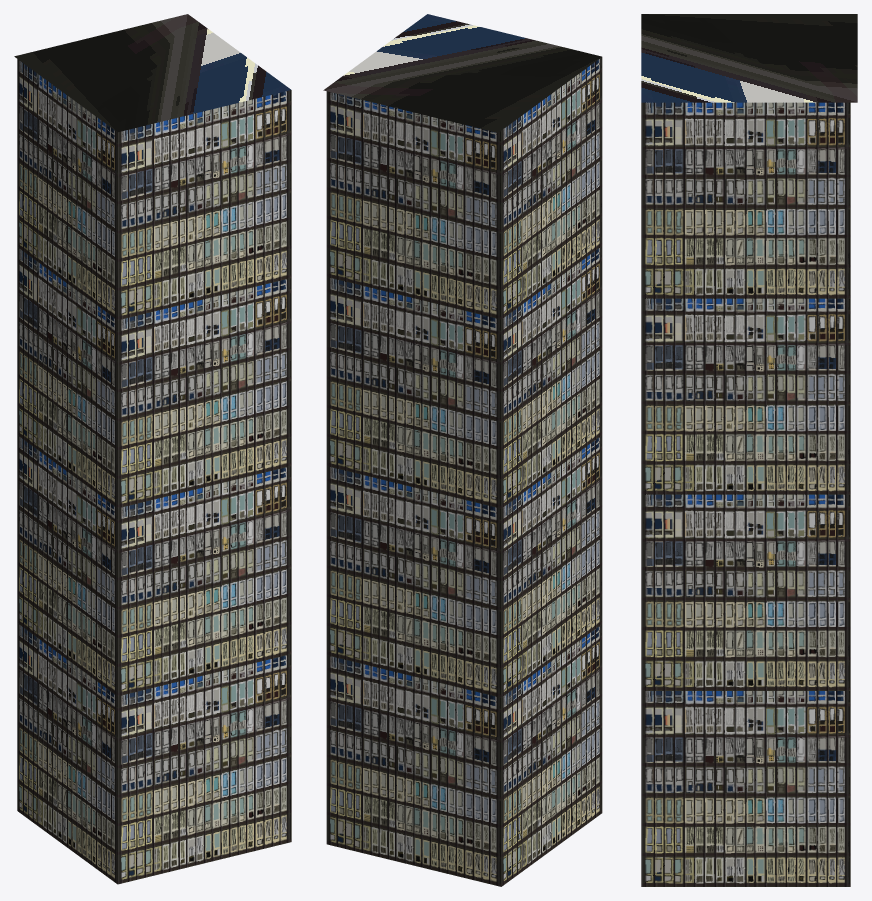
Rendered from skyscraper.gltf.
3 views of the same model, side by side, from view 1: azimuth 30°, elevation 25°; view 2: azimuth 150°, elevation 25°; view 3: azimuth 270°, elevation 25° (orthographic). The views are drawn at different scales.
Parts seen in each view (by area): view 1: skyscraper; view 2: skyscraper; view 3: skyscraper.
Part boxes in pixels (x1=…): skyscraper: x1=14, y1=14, x2=291, y2=884; skyscraper: x1=323, y1=14, x2=602, y2=886; skyscraper: x1=641, y1=14, x2=857, y2=886.
Bounding box in the file's own units: 30 × 124 × 32.
1 material, 1 textured.
